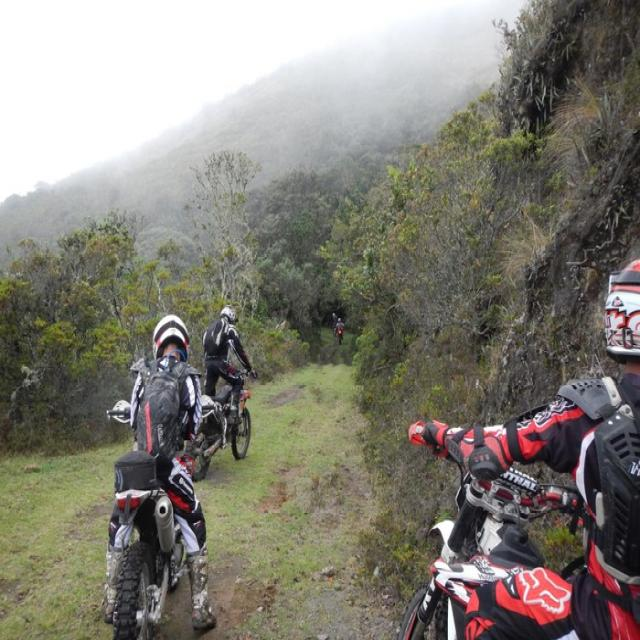MOTORCYCLE: (413, 374, 640, 640), (100, 448, 207, 640)
